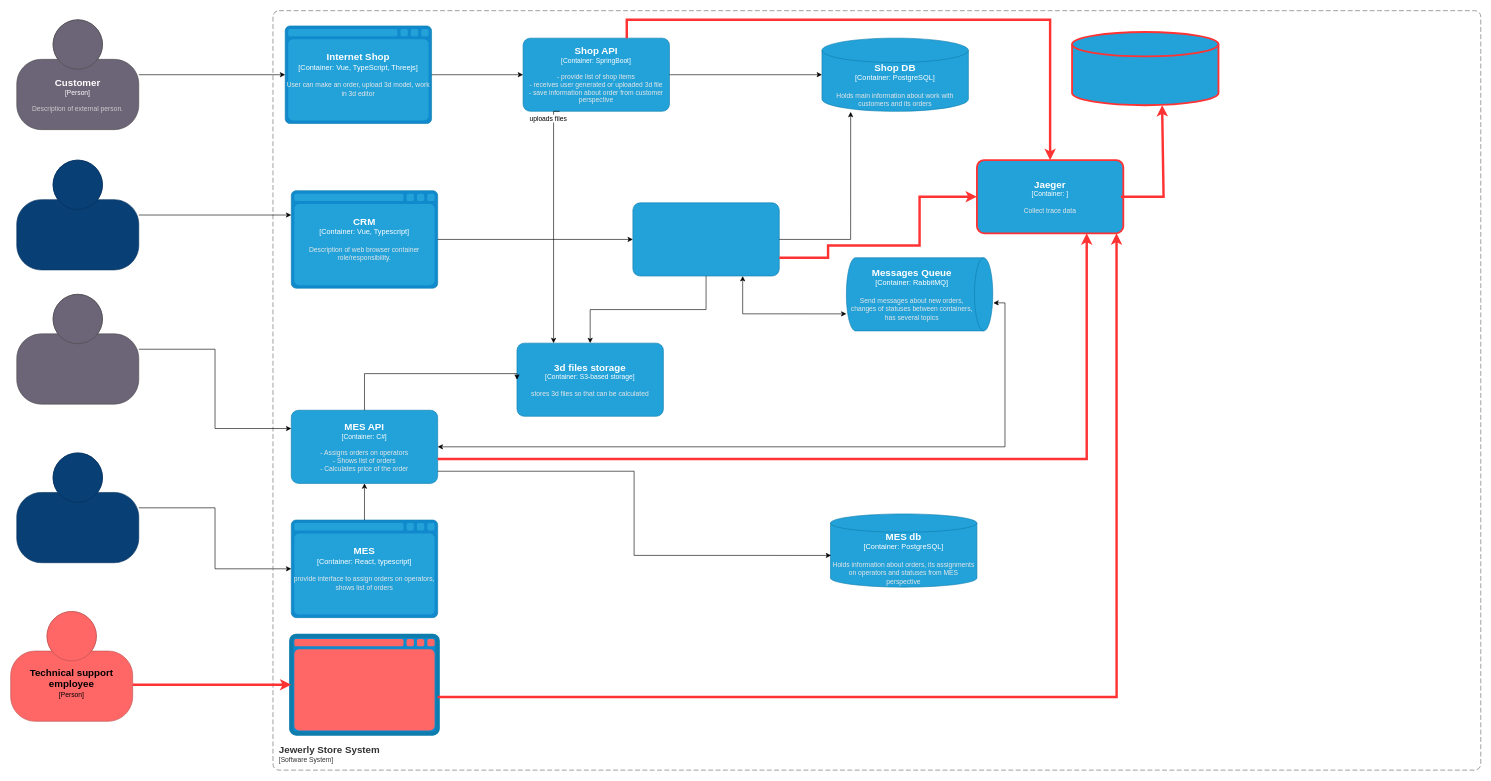
This 1491x781 diagram has some shape labels left out. The centre of each missing label's shape, as x and y in pixels:
API user [Person] Description of external person.: (77,349)
CRM API [Container: SpringBoot] Description of container role/responsibility.: (705,239)
Jaeger DB [Container: Cassandra] Holds trace data: (1145,68)
Jaeger UI [Container: ] Search and visualisation trace data: (364,684)
Operator [Person] Takes order in work, manufactures jewerly: (77,507)
Seller [Person] Operates with order, confirms manufacturing for the user: (77,215)
